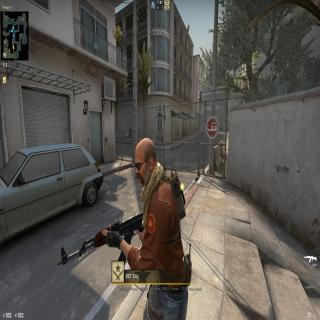T-Head: (134, 136, 158, 188)
